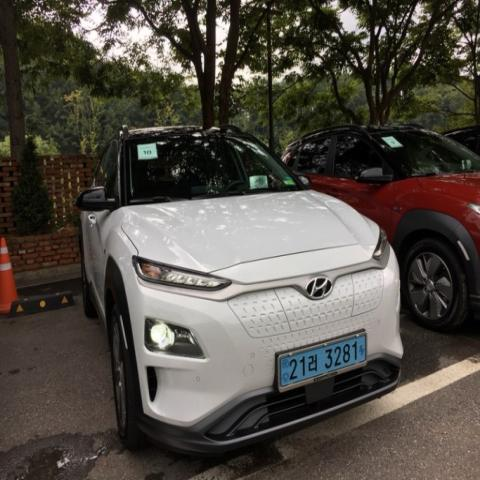LP: (275, 323, 375, 400)
